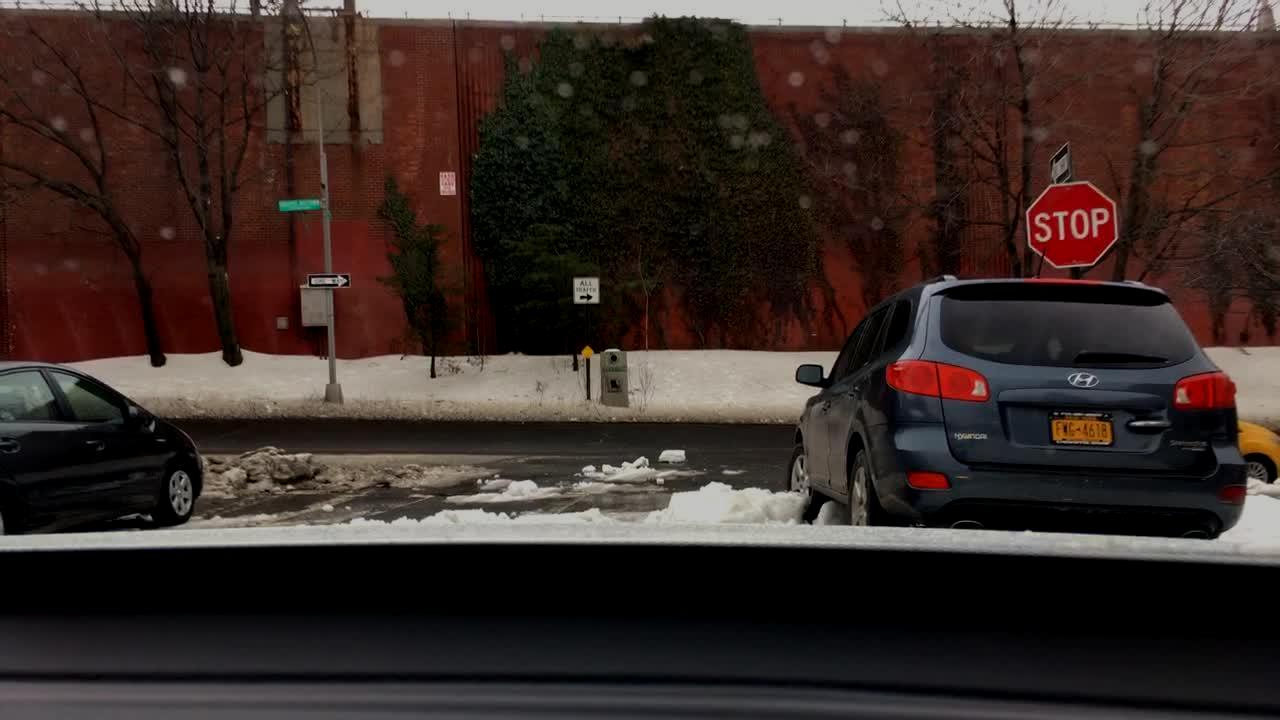Hyundai: (1058, 364, 1113, 401)
